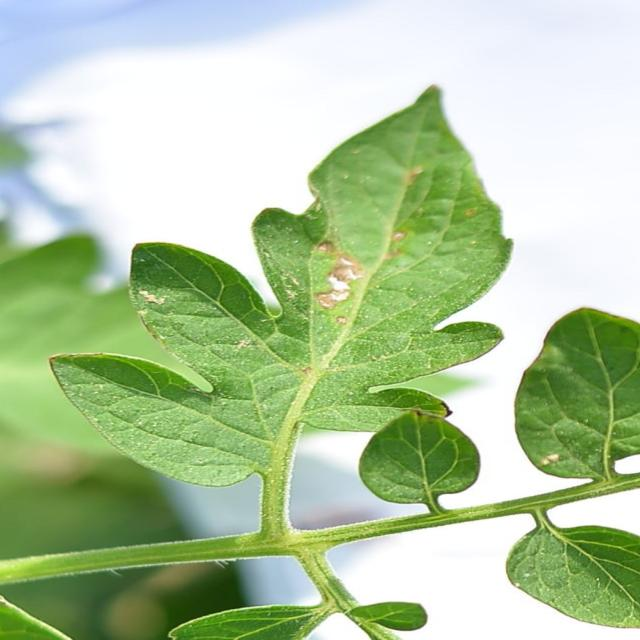infected: (290, 234, 404, 326)
